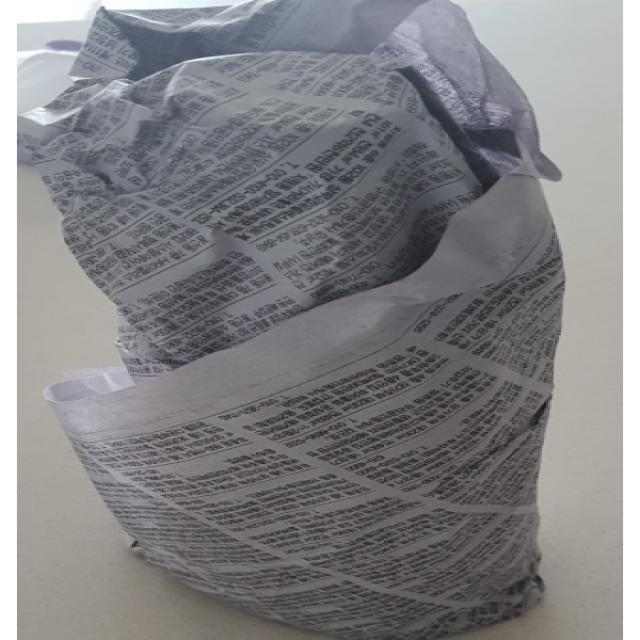Newspaper: (16, 0, 581, 640)
